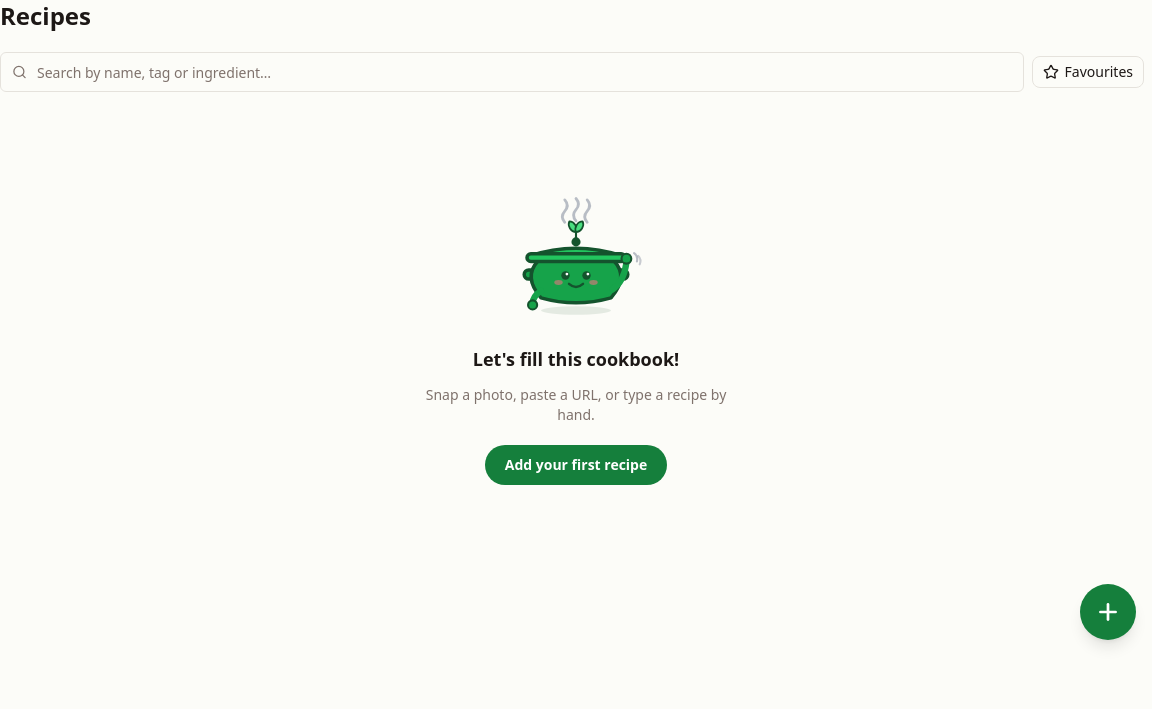
Test: RecipesPage › closes the sheet after confirming discard
The width and height of the screenshot is (1152, 709).
Click the button named "New Recipe".
click(1108, 612)  # box x1=1080 y1=584 x2=1136 y2=640
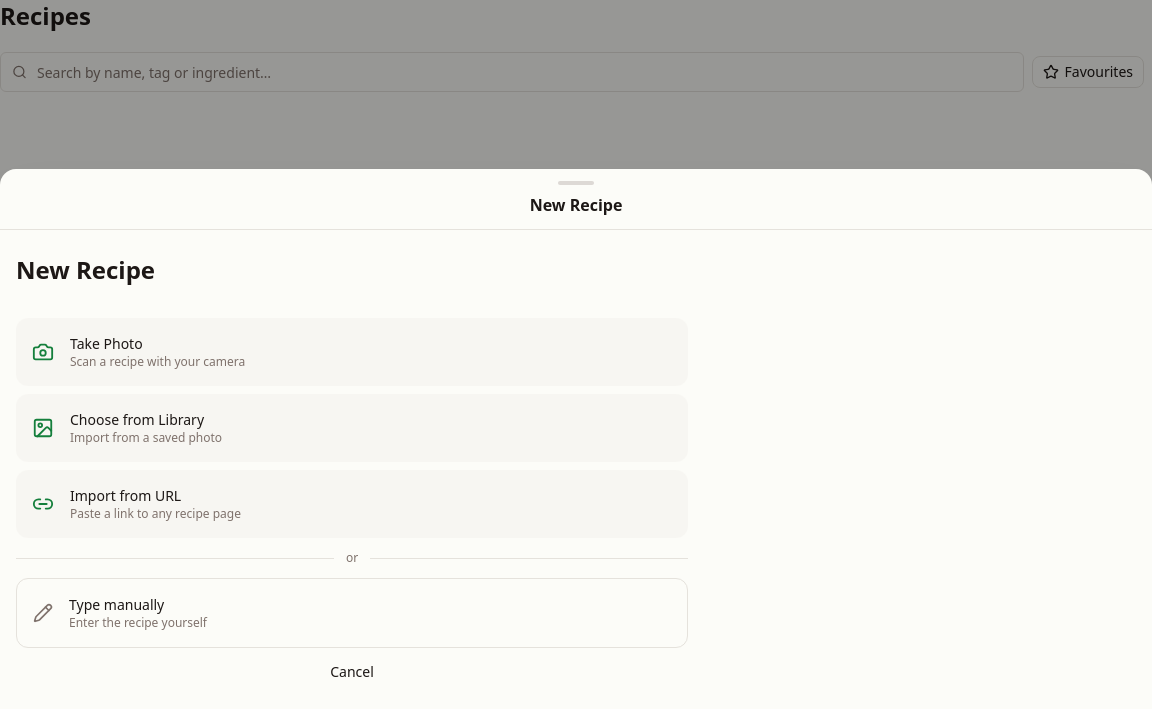
Click the text "Type manually".
click(117, 604)  # box x1=69 y1=595 x2=164 y2=614
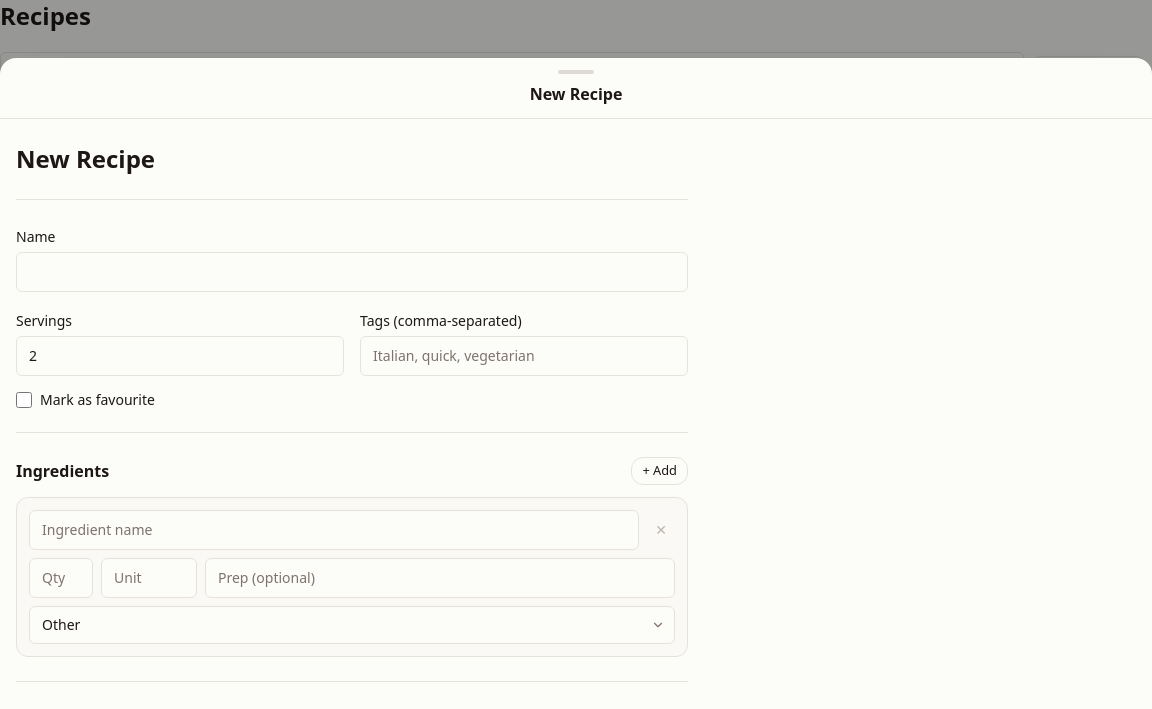
Type "My Recipe" into the field labelled "Name".
click(352, 272); type("My Recipe")  # box x1=16 y1=252 x2=688 y2=292
(page scrolled)
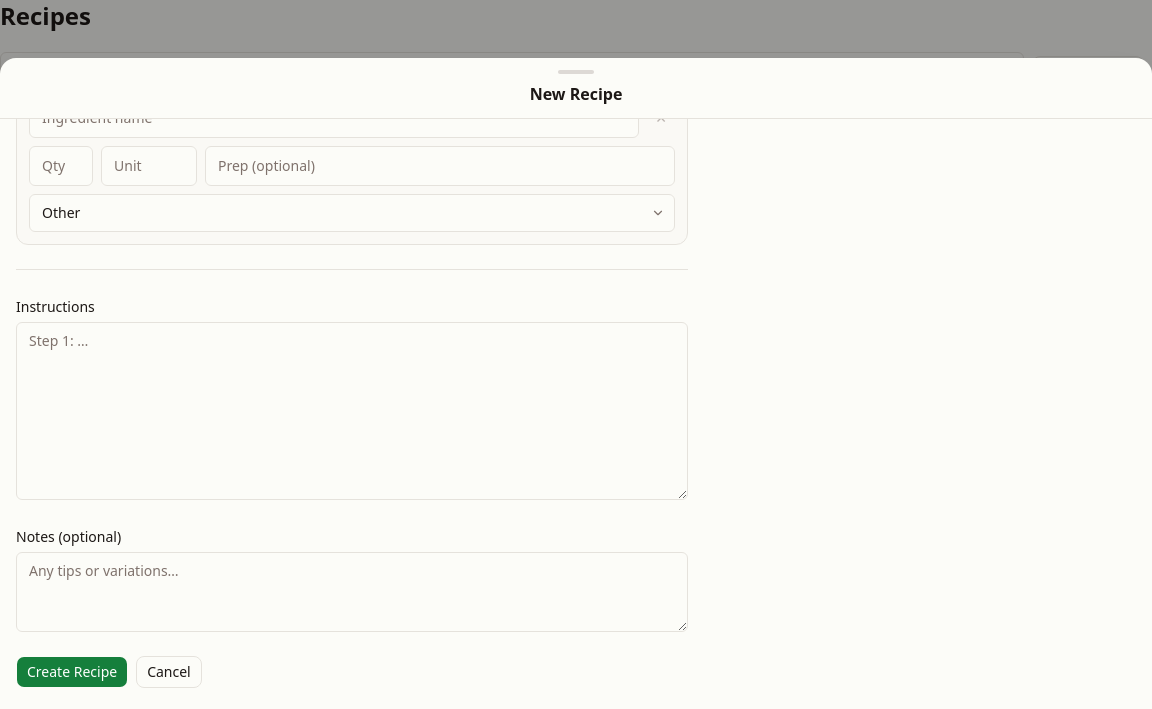
Click the button "Cancel".
click(169, 672)  # box x1=136 y1=656 x2=202 y2=688
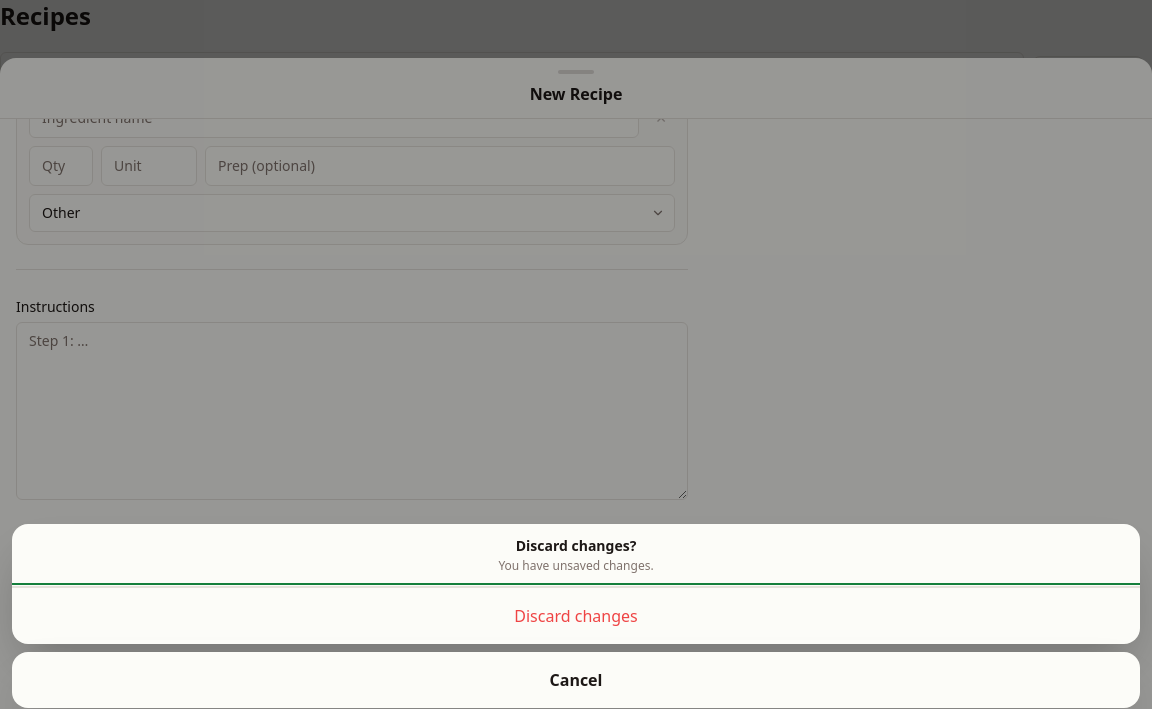
Click the button "Discard changes".
click(576, 616)  # box x1=12 y1=587 x2=1140 y2=644
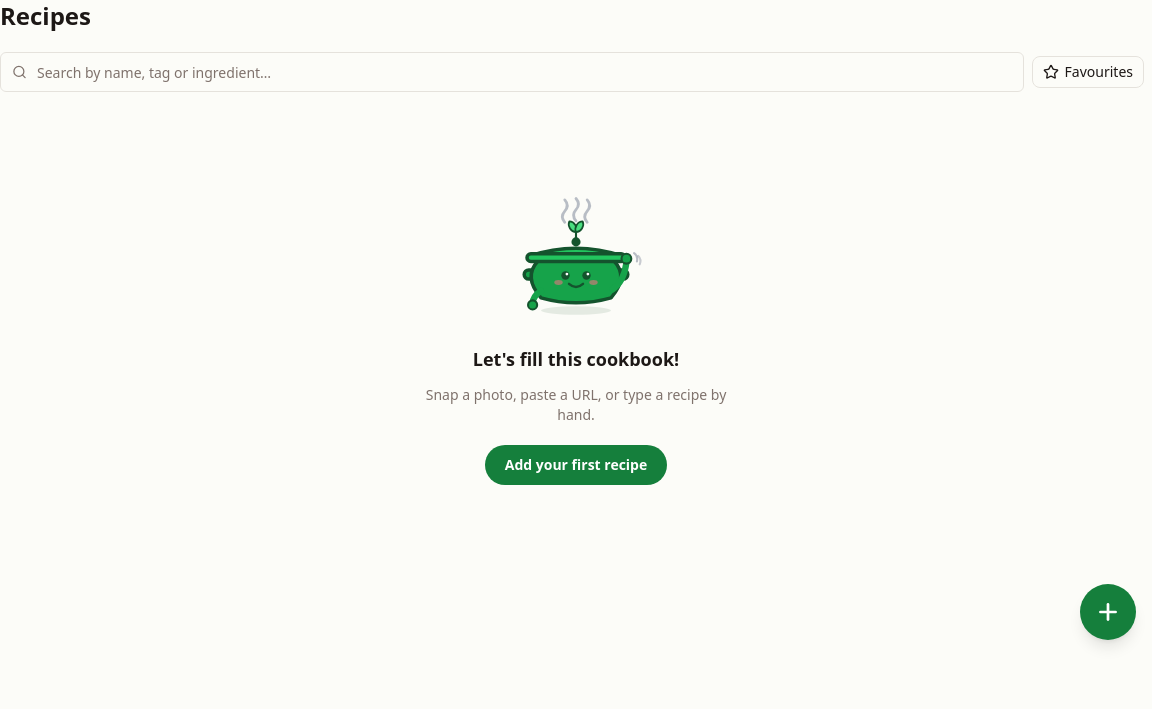
Result: the text "Discard changes?" is gone
